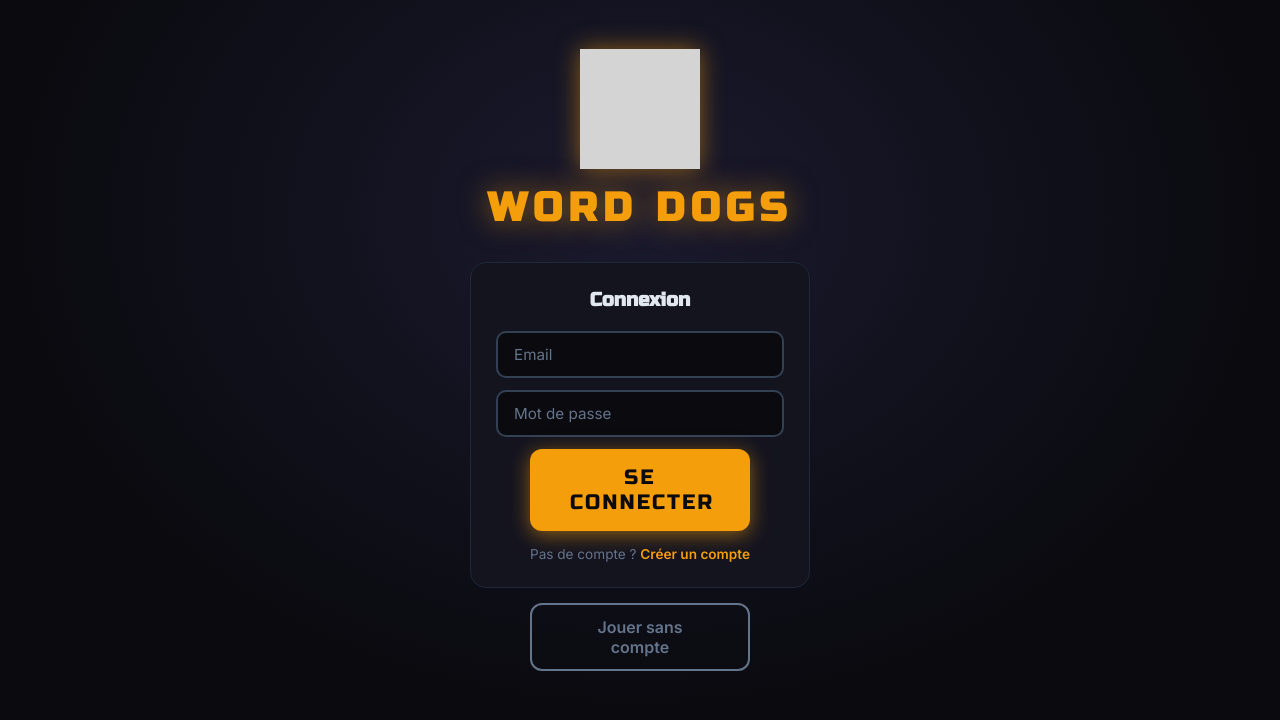
Test: AuthScreen › switches back to login from signup
Click the link "Créer un compte" at (695, 554), box [640, 546, 750, 562]
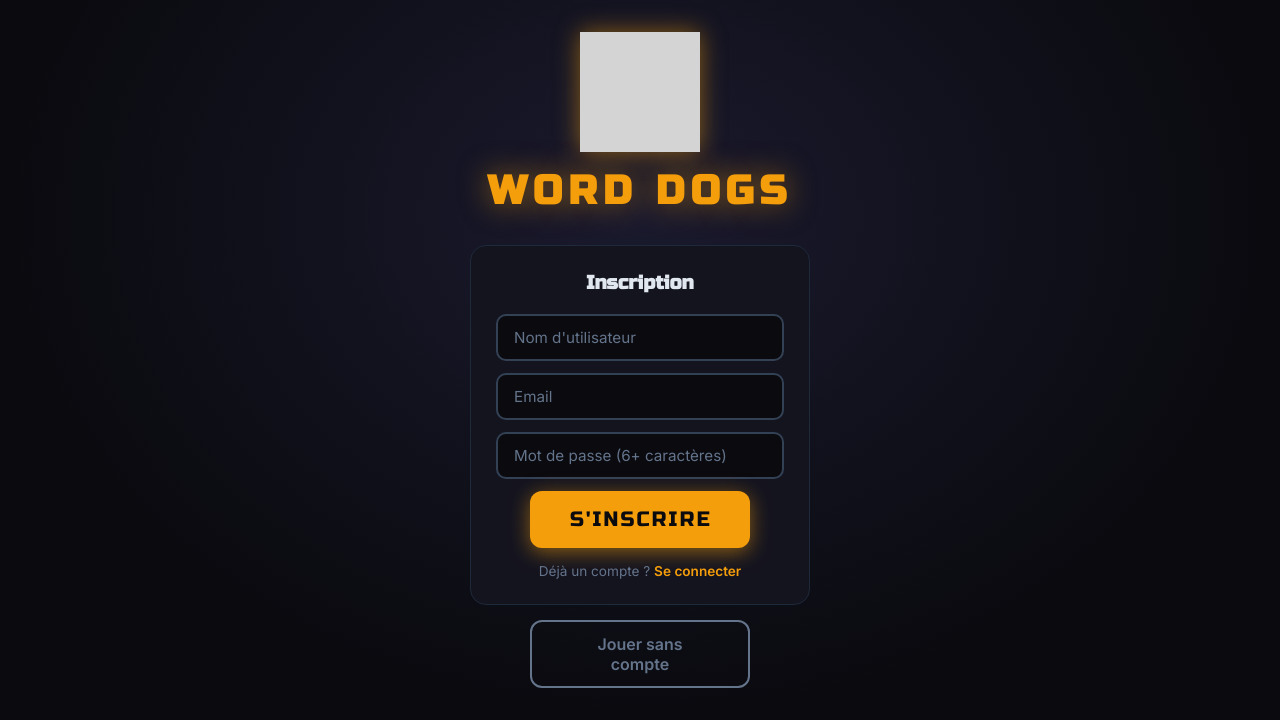
Click the link "Se connecter" at (698, 571), box [654, 563, 741, 579]
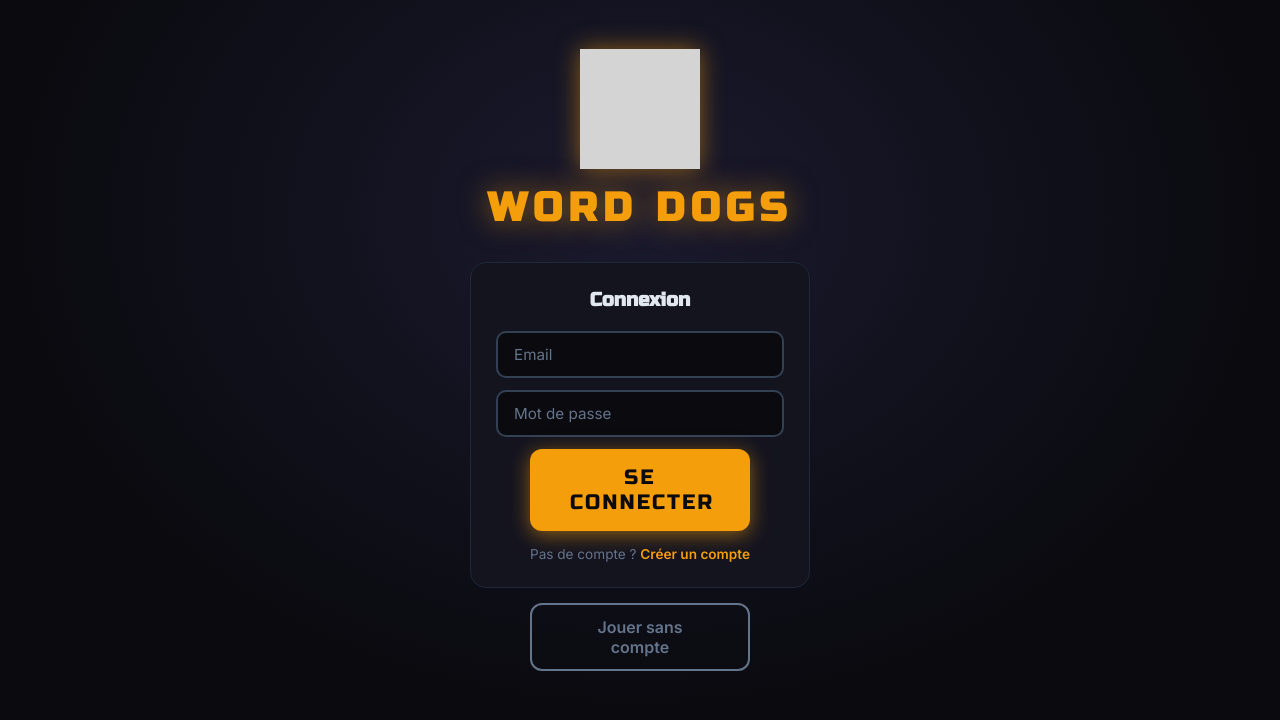
expect the heading "Connexion" is shown: met, box [590, 288, 690, 311]
